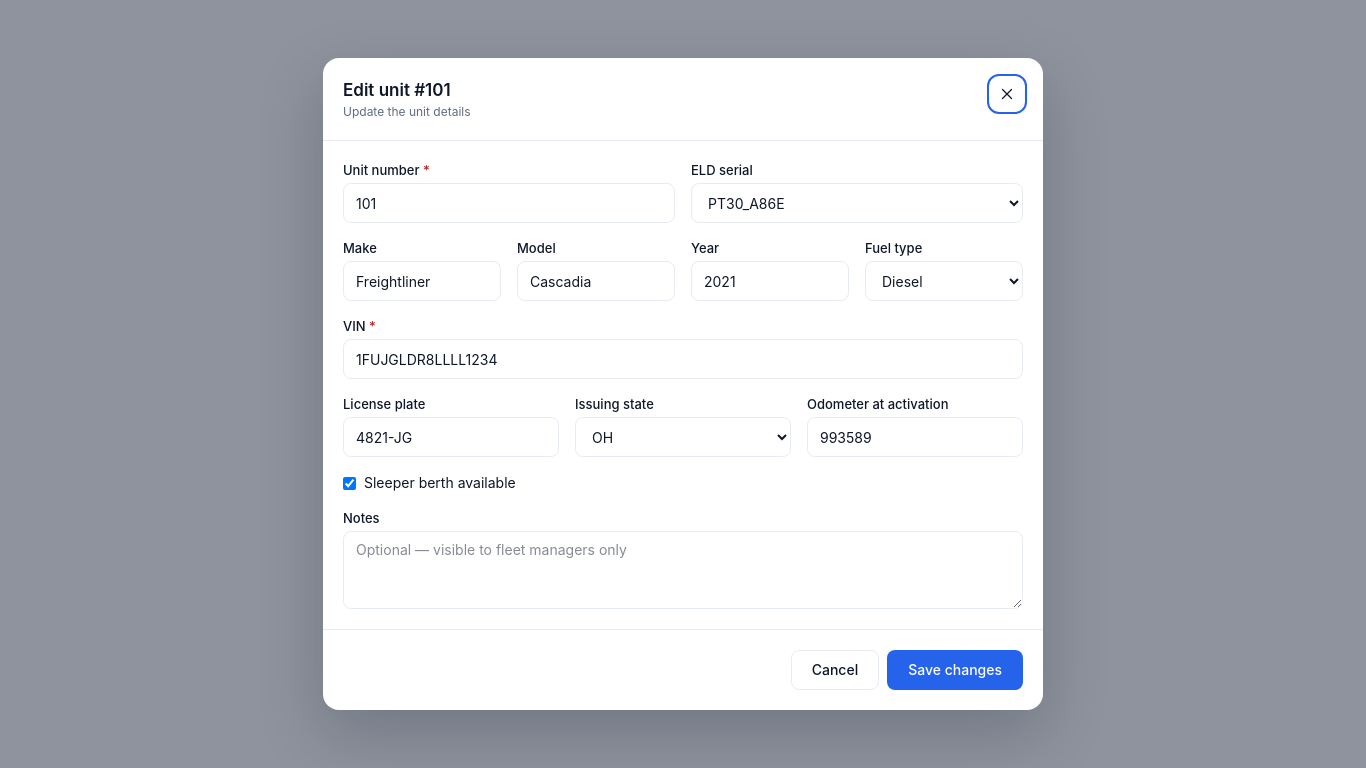
Test case: 11.2 Add / Edit unit — server validation is never silent › an issue on a field without an error line (`notes`) is spelled out in the toast
Step 1. Click the button "Save changes" → (955, 670), box [887, 650, 1023, 690]
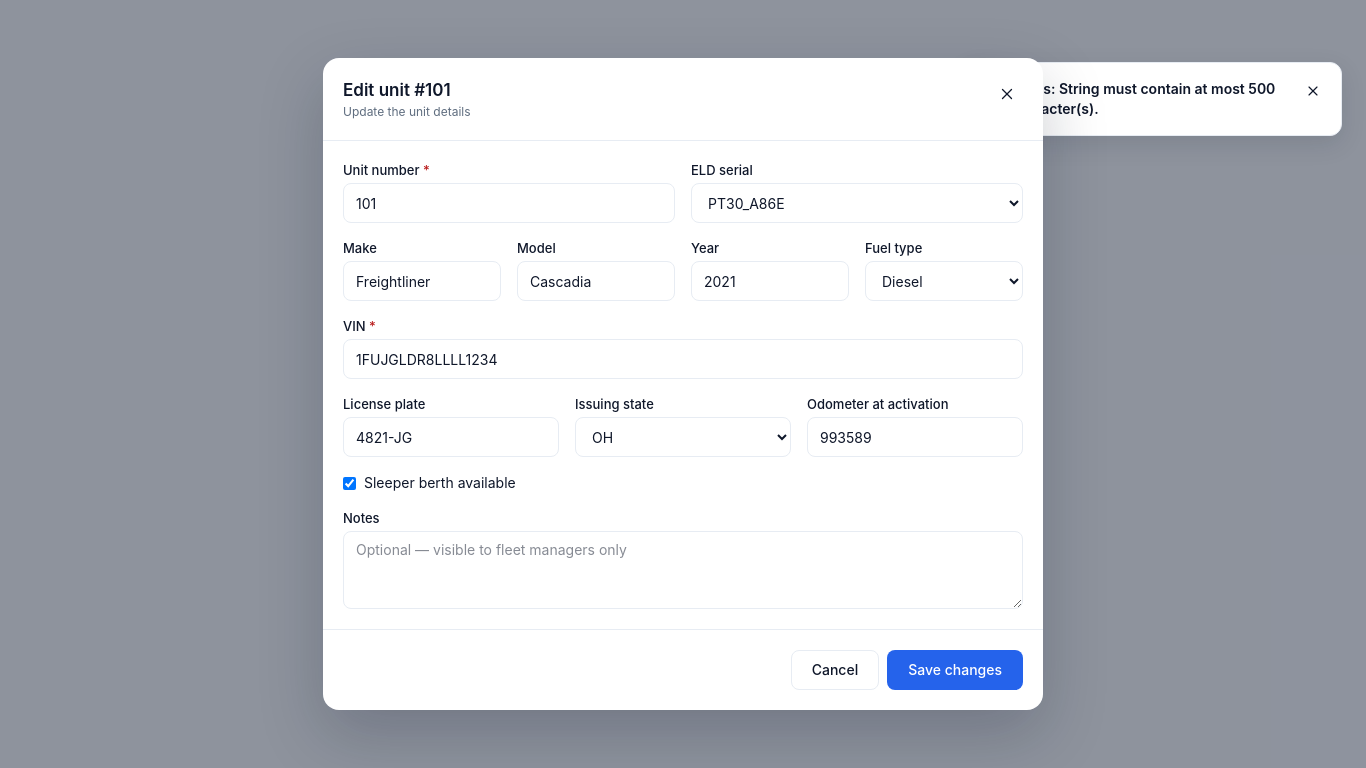
Expected: the text "Notes: String must contain at most 500 character(s)." is shown, [1011, 79, 1289, 119]
